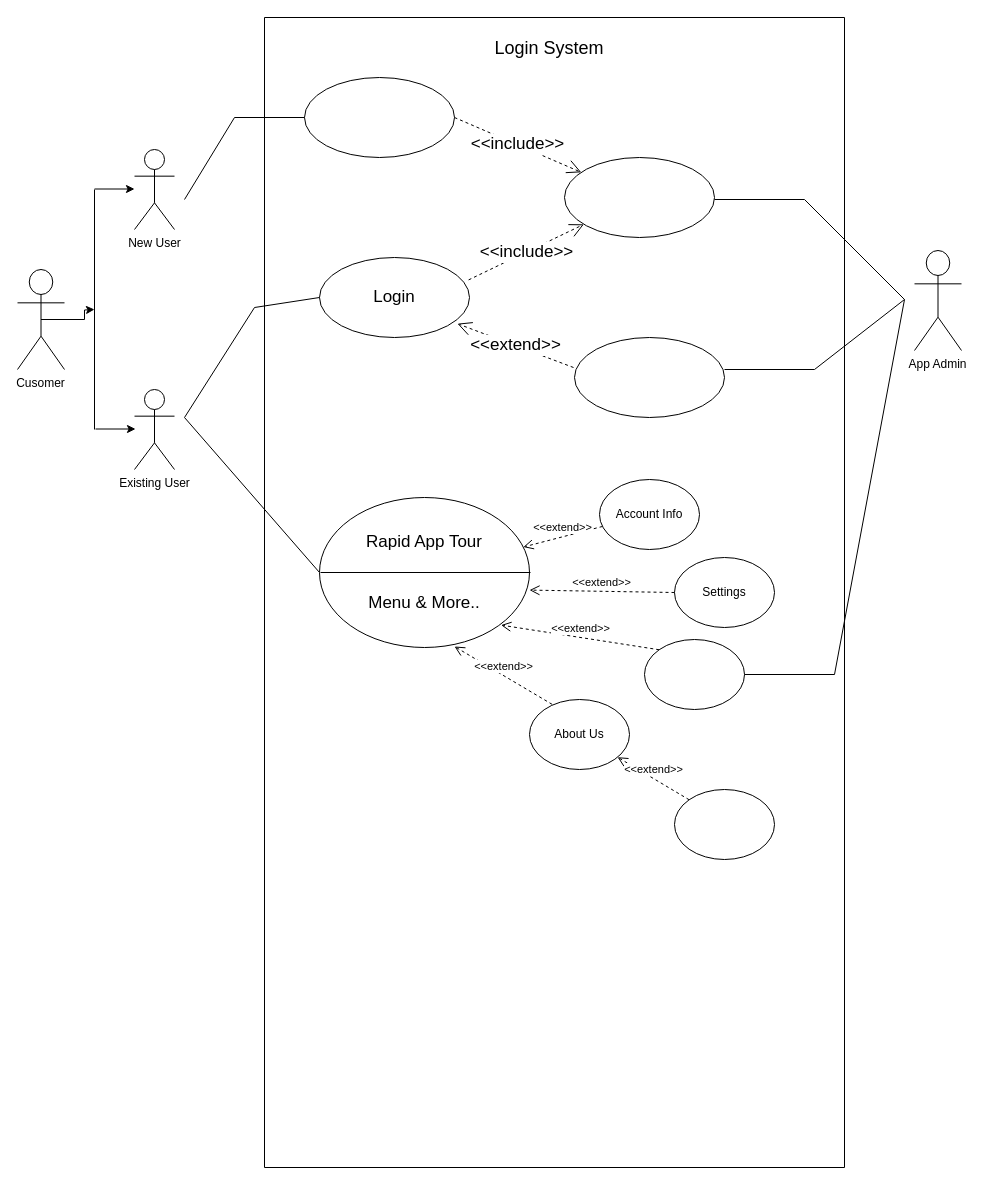
The diagram is 985 pixels wide and 1185 high, and some of its shapes have lost their labels. The shapes that lost their labels are listed below. From the top down, each one's centre as x and y in pixels, then its label:
At point 379,117: "Register".
At point 639,197: "Authentication".
At point 649,377: "Forget password".
At point 694,674: "Contact Us".
At point 724,824: "Feedback".
